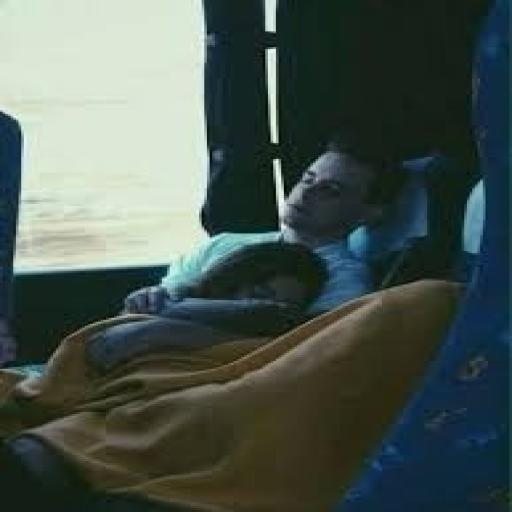sitting: (0, 128, 467, 510)
